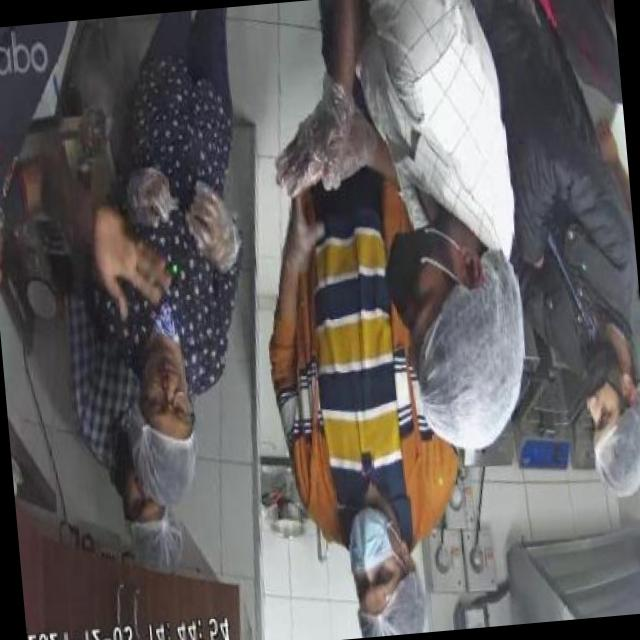hairnet: (410, 318, 530, 437), (124, 401, 200, 502), (127, 514, 184, 572), (598, 434, 640, 495), (358, 604, 428, 638)
